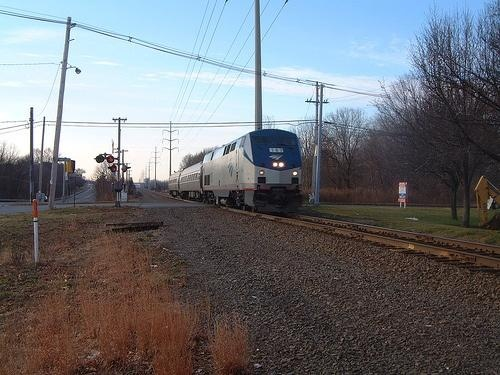train: (164, 127, 316, 221)
